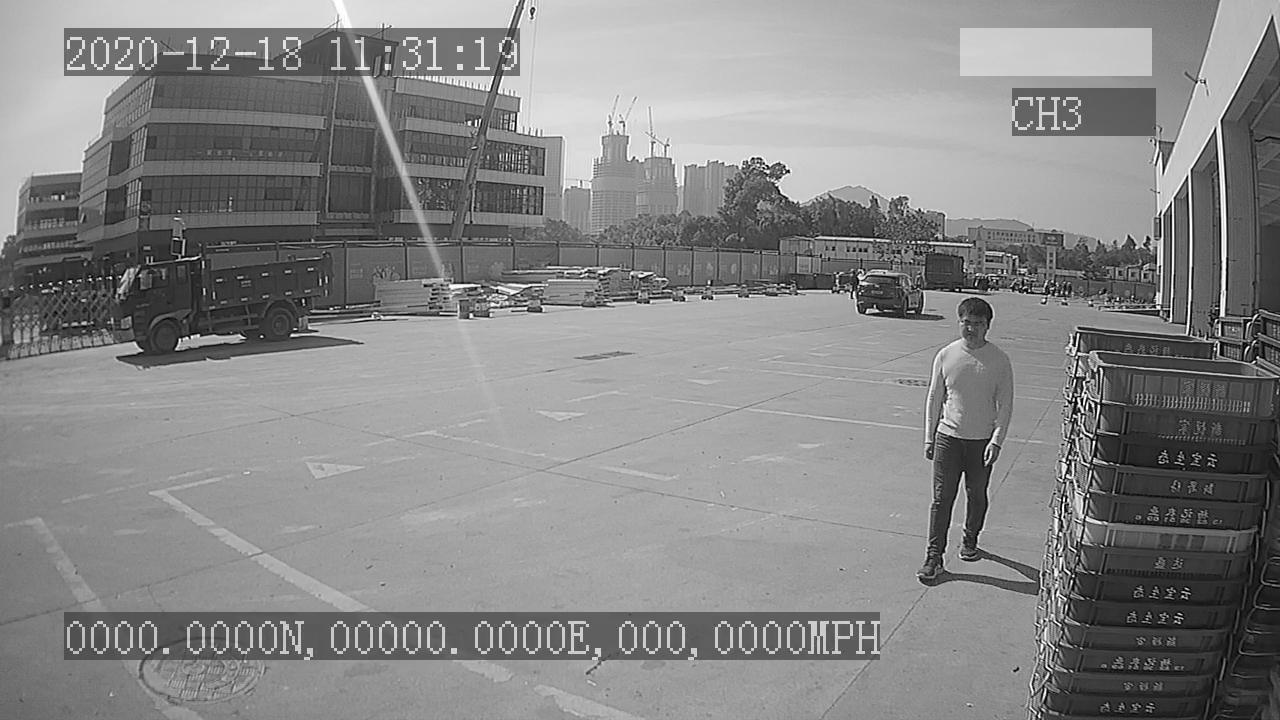person: (913, 293, 1013, 585)
